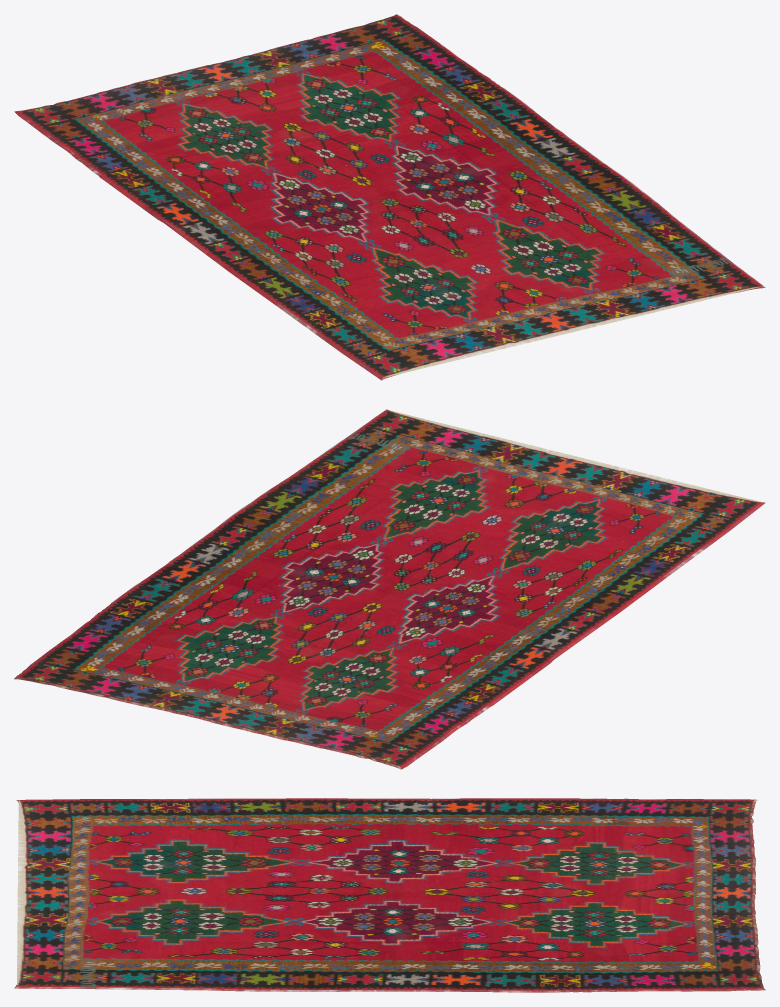
The model's file is Rug.fbx.
The picture shows the model from 3 angles, top to bottom: view 1: azimuth 30°, elevation 25°; view 2: azimuth 150°, elevation 25°; view 3: azimuth 270°, elevation 25°; orthographic projection.
Visible parts, largest first — view 1: Plane; view 2: Plane; view 3: Plane.
Boxes of the visible parts, <box> form: Plane: <box>14,14,765,380</box>; Plane: <box>14,409,765,769</box>; Plane: <box>14,798,765,992</box>.
Size of the model in its own units: 200 by 0.463 by 328.
